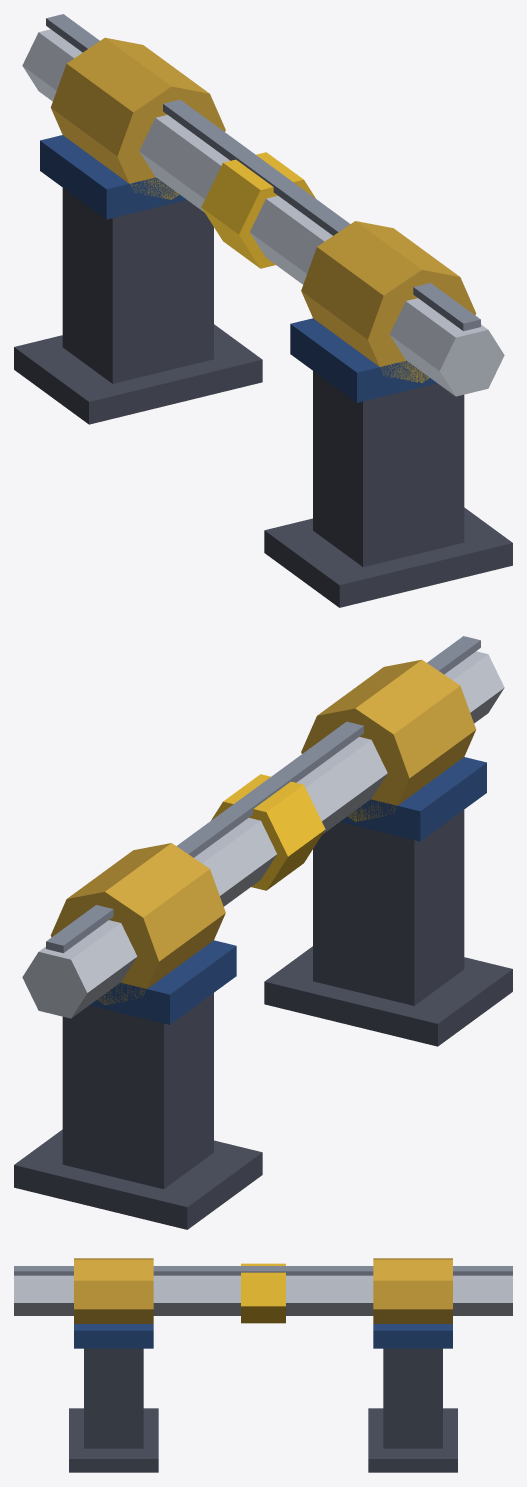
Rendered from shaft.glb.
3 views of the same model, one above another, from view 1: azimuth 30°, elevation 25°; view 2: azimuth 150°, elevation 25°; view 3: azimuth 270°, elevation 25° (orthographic). The views are drawn at different scales.
Parts seen in each view (by area): view 1: shaft, spin-y; view 2: shaft, spin-y; view 3: shaft, spin-y.
Part boxes in pixels (x1,y1,x2,y2): shaft: [14, 37, 512, 607]; spin-y: [22, 14, 504, 396]; shaft: [14, 659, 512, 1229]; spin-y: [22, 636, 504, 1018]; shaft: [69, 1258, 457, 1472]; spin-y: [14, 1263, 512, 1323].
Bounding box in the file's own units: 0.24 × 0.415 × 1.
Materials: 2 (2 with a texture image).
